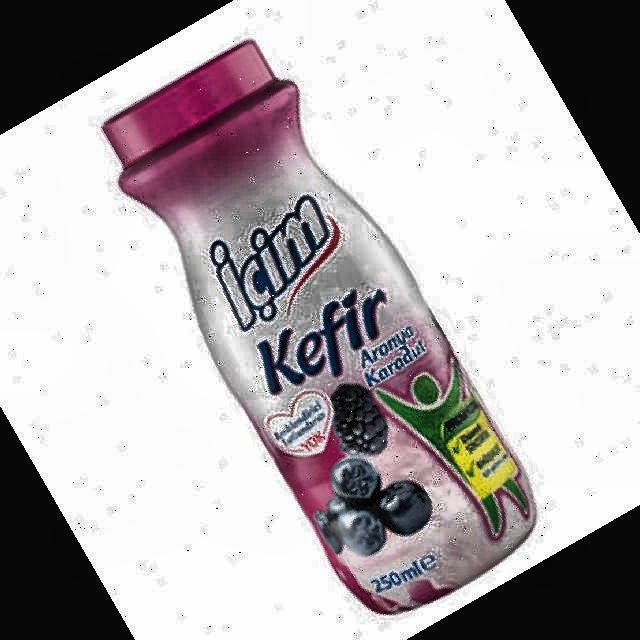plastic: (104, 41, 535, 613)
